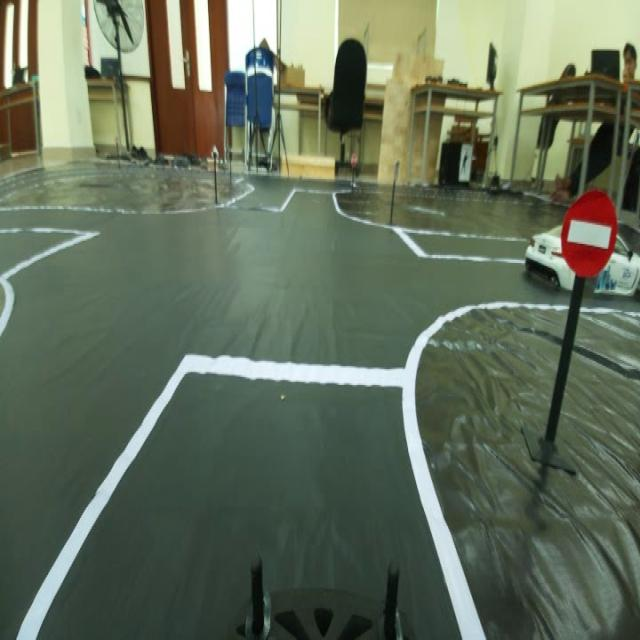no_entry: (552, 180, 624, 298)
